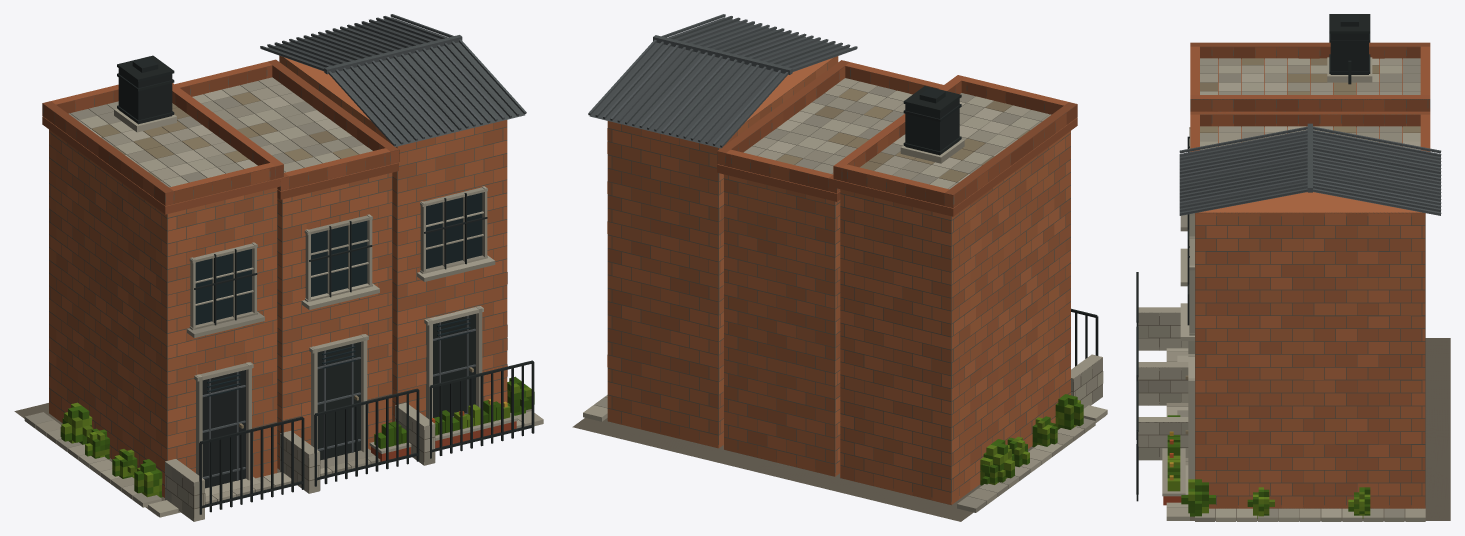
File: SM_Mapa_074.fbx
3 views of the same model, side by side, from view 1: azimuth 30°, elevation 25°; view 2: azimuth 150°, elevation 25°; view 3: azimuth 270°, elevation 25° (orthographic). The views are drawn at different scales.
Visible parts, largest first — view 1: SM_Mapa_074; view 2: SM_Mapa_074; view 3: SM_Mapa_074.
Boxes of the visible parts, box(x1,y1,x2,y2) form: SM_Mapa_074: box(14, 14, 543, 521); SM_Mapa_074: box(572, 14, 1107, 521); SM_Mapa_074: box(1136, 14, 1450, 521).
Bounding box in the file's own units: 8 × 5.69 × 7.15.
